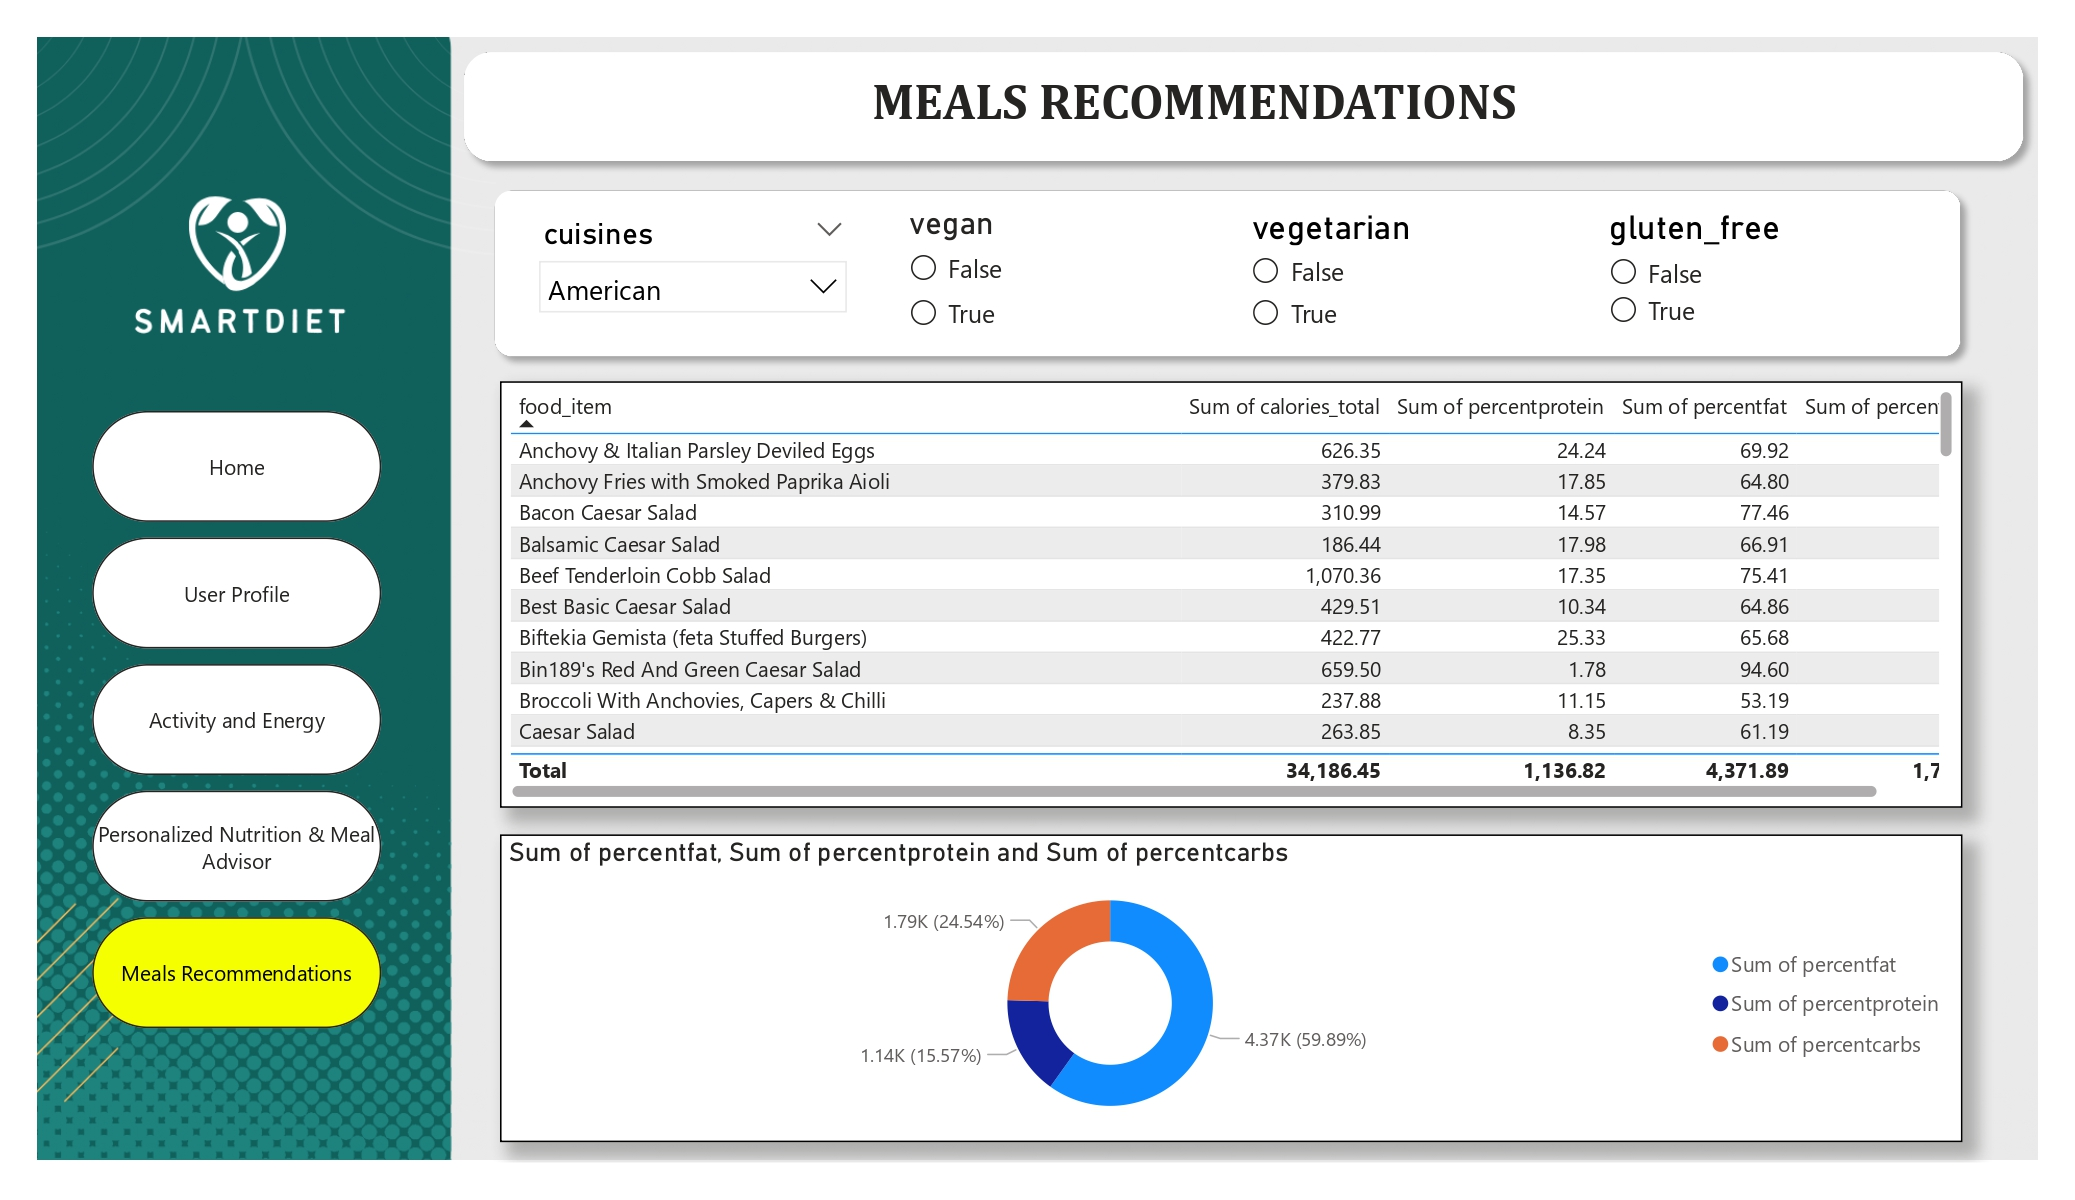

Layout of this report page (visuals, bound fields, positions):
{"tool":"powerbi","page":{"name":"Meals Recommendations","canvas":[1280,720],"ordinal":5},"visuals":[{"type":"tableEx","fields":{"Values":["food_recipe_cleaned.food_item","Measure_Table.Recipe - Calories (Per Recipe)","Measure_Table.Recipe - Avg %Protein","Measure_Table.Recipe - Avg %Fat","Measure_Table.Recipe - Avg %Carbs"]},"box":[259.2,220.3,1008,459.4],"z":4000},{"type":"shape","box":[250.6,85,1016.6,123.8],"z":5000},{"type":"listSlicer","fields":{"Values":["food_recipe_cleaned.gluten_free"]},"box":[1000.8,109.4,231.8,82.1],"z":6000},{"type":"slicer","fields":{"Values":["food_recipe_cleaned.cuisines"]},"box":[298.1,109.4,217.4,82.1],"z":7000},{"type":"listSlicer","fields":{"Values":["food_recipe_cleaned.vegetarian"]},"box":[771.8,109.4,218.9,82.1],"z":8000},{"type":"listSlicer","fields":{"Values":["food_recipe_cleaned.vegan"]},"box":[553,106.6,218.9,87.8],"z":9000},{"type":"shape","box":[238.9,0,1041.1,87.8],"z":10000},{"type":"textbox","box":[362.9,21.6,790.6,53.3],"z":11000},{"type":"pageNavigator","box":[18.7,190.1,197.3,445],"z":13000}]}

Visuals, with their boxes on the page's 1280x720 design canvas (x1, y1, x2, y2). These are canvas units, not pixel positions in the 2075x1200 screenshot, which may show the page scaled, cropped or inside an application window:
tableEx - food_recipe_cleaned.food_item x Measure_Table.Recipe - Calories (Per Recipe): <box>259,220,1267,680</box>
shape: <box>251,85,1267,209</box>
listSlicer - food_recipe_cleaned.gluten_free: <box>1001,109,1233,192</box>
slicer - food_recipe_cleaned.cuisines: <box>298,109,516,192</box>
listSlicer - food_recipe_cleaned.vegetarian: <box>772,109,991,192</box>
listSlicer - food_recipe_cleaned.vegan: <box>553,107,772,194</box>
shape: <box>239,0,1280,88</box>
textbox: <box>363,22,1154,75</box>
pageNavigator: <box>19,190,216,635</box>
